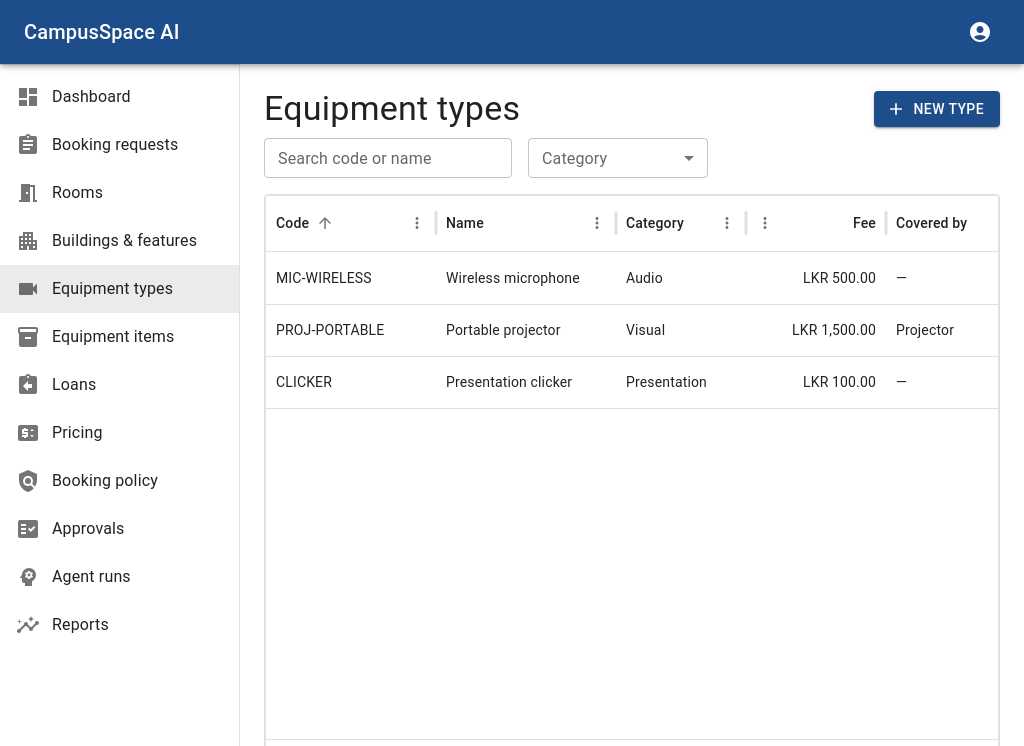
it: EquipmentTypesPage › sends the category filter
expect the text "MIC-WIRELESS" is shown: met, box [276, 270, 372, 286]
Click the dropdown named "Category": x=618, y=158 [528, 138, 708, 178]
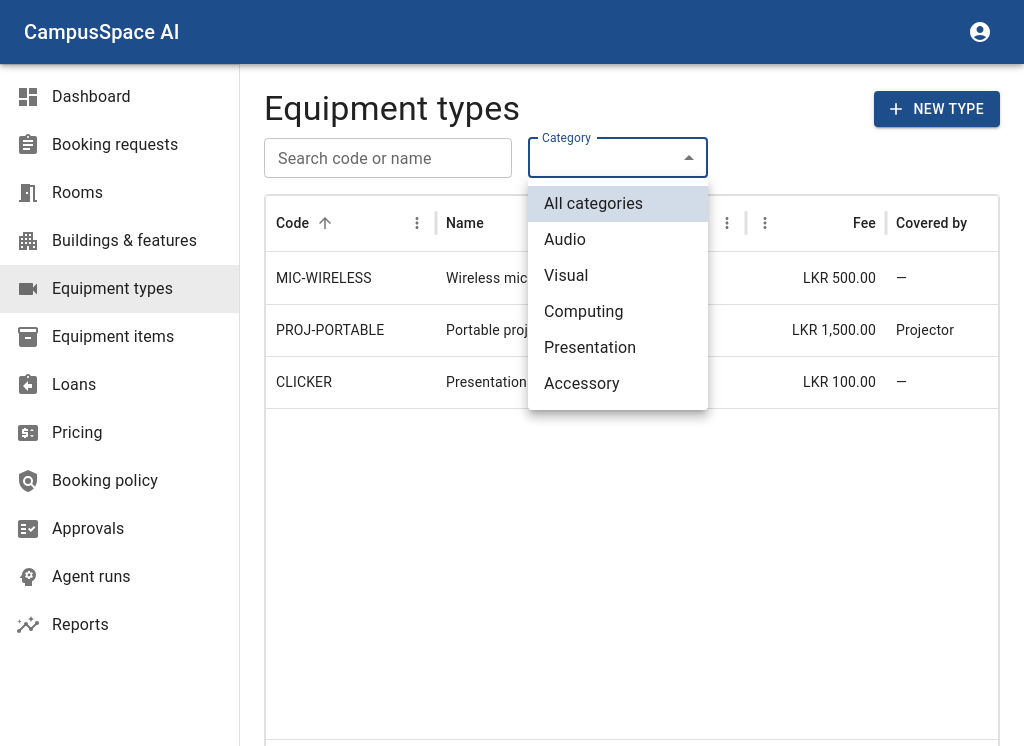
Click the option "Visual": x=566, y=276 [544, 266, 589, 285]
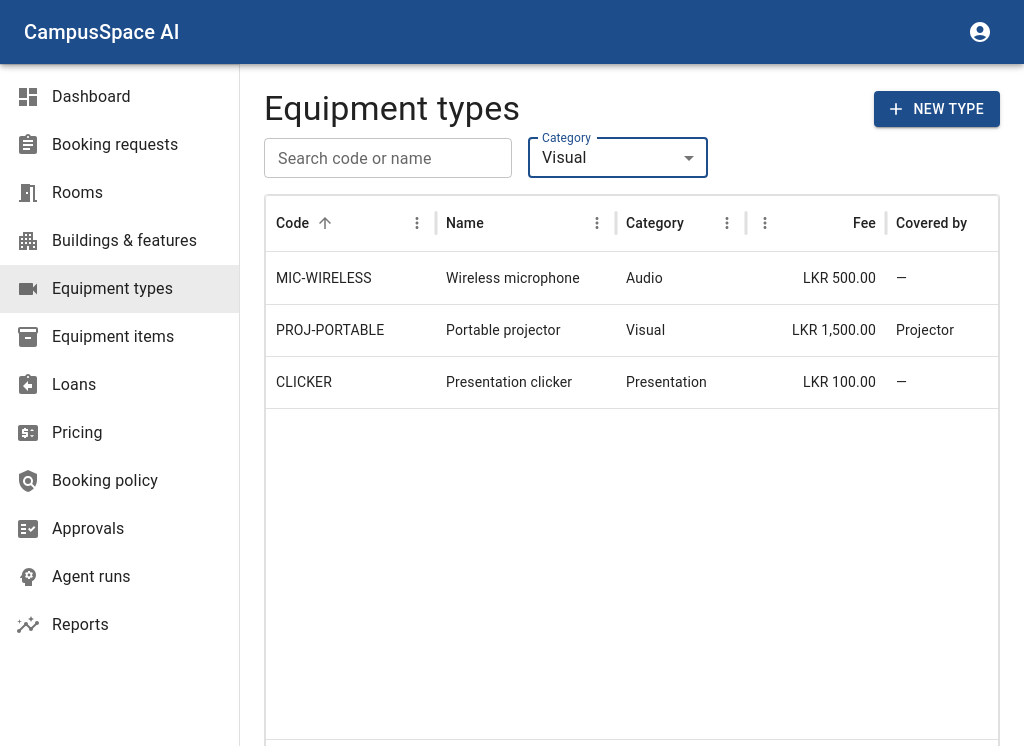
expect the dropdown named "Category" reads "Visual": met, box [542, 148, 587, 168]
